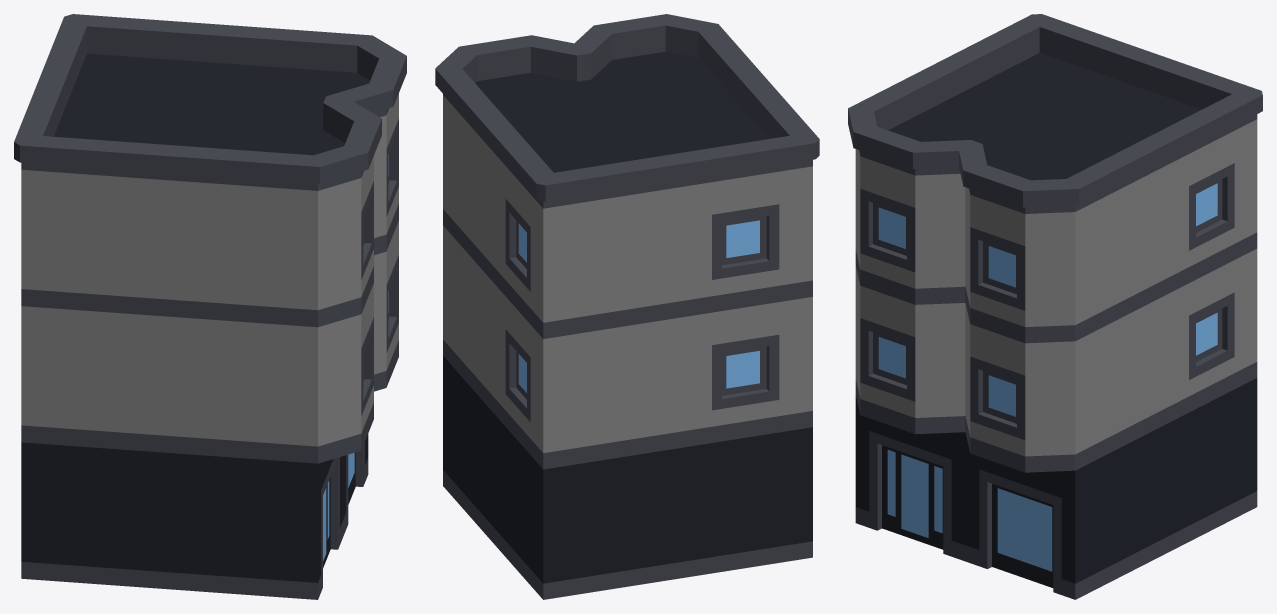
Rendered from variant_32.obj.
3 views of the same model, side by side, from view 1: azimuth 30°, elevation 25°; view 2: azimuth 150°, elevation 25°; view 3: azimuth 270°, elevation 25° (orthographic). The views are drawn at different scales.
Visible parts, largest first — view 1: Building; view 2: Building; view 3: Building.
Boxes of the visible parts, x1=… form: Building: x1=14, y1=14, x2=406, y2=599; Building: x1=435, y1=14, x2=819, y2=599; Building: x1=848, y1=14, x2=1262, y2=599.
Size of the model in its own units: 1.18 by 1.28 by 1.16.
